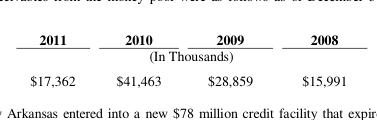table: (29, 29, 346, 89)
table column: (183, 29, 276, 89), (95, 29, 183, 89), (276, 29, 346, 89), (29, 29, 95, 89)
table column header: (29, 29, 346, 46)
table projected row header: (29, 46, 346, 67)
table row: (29, 67, 346, 89), (29, 46, 346, 67), (29, 29, 346, 46)
